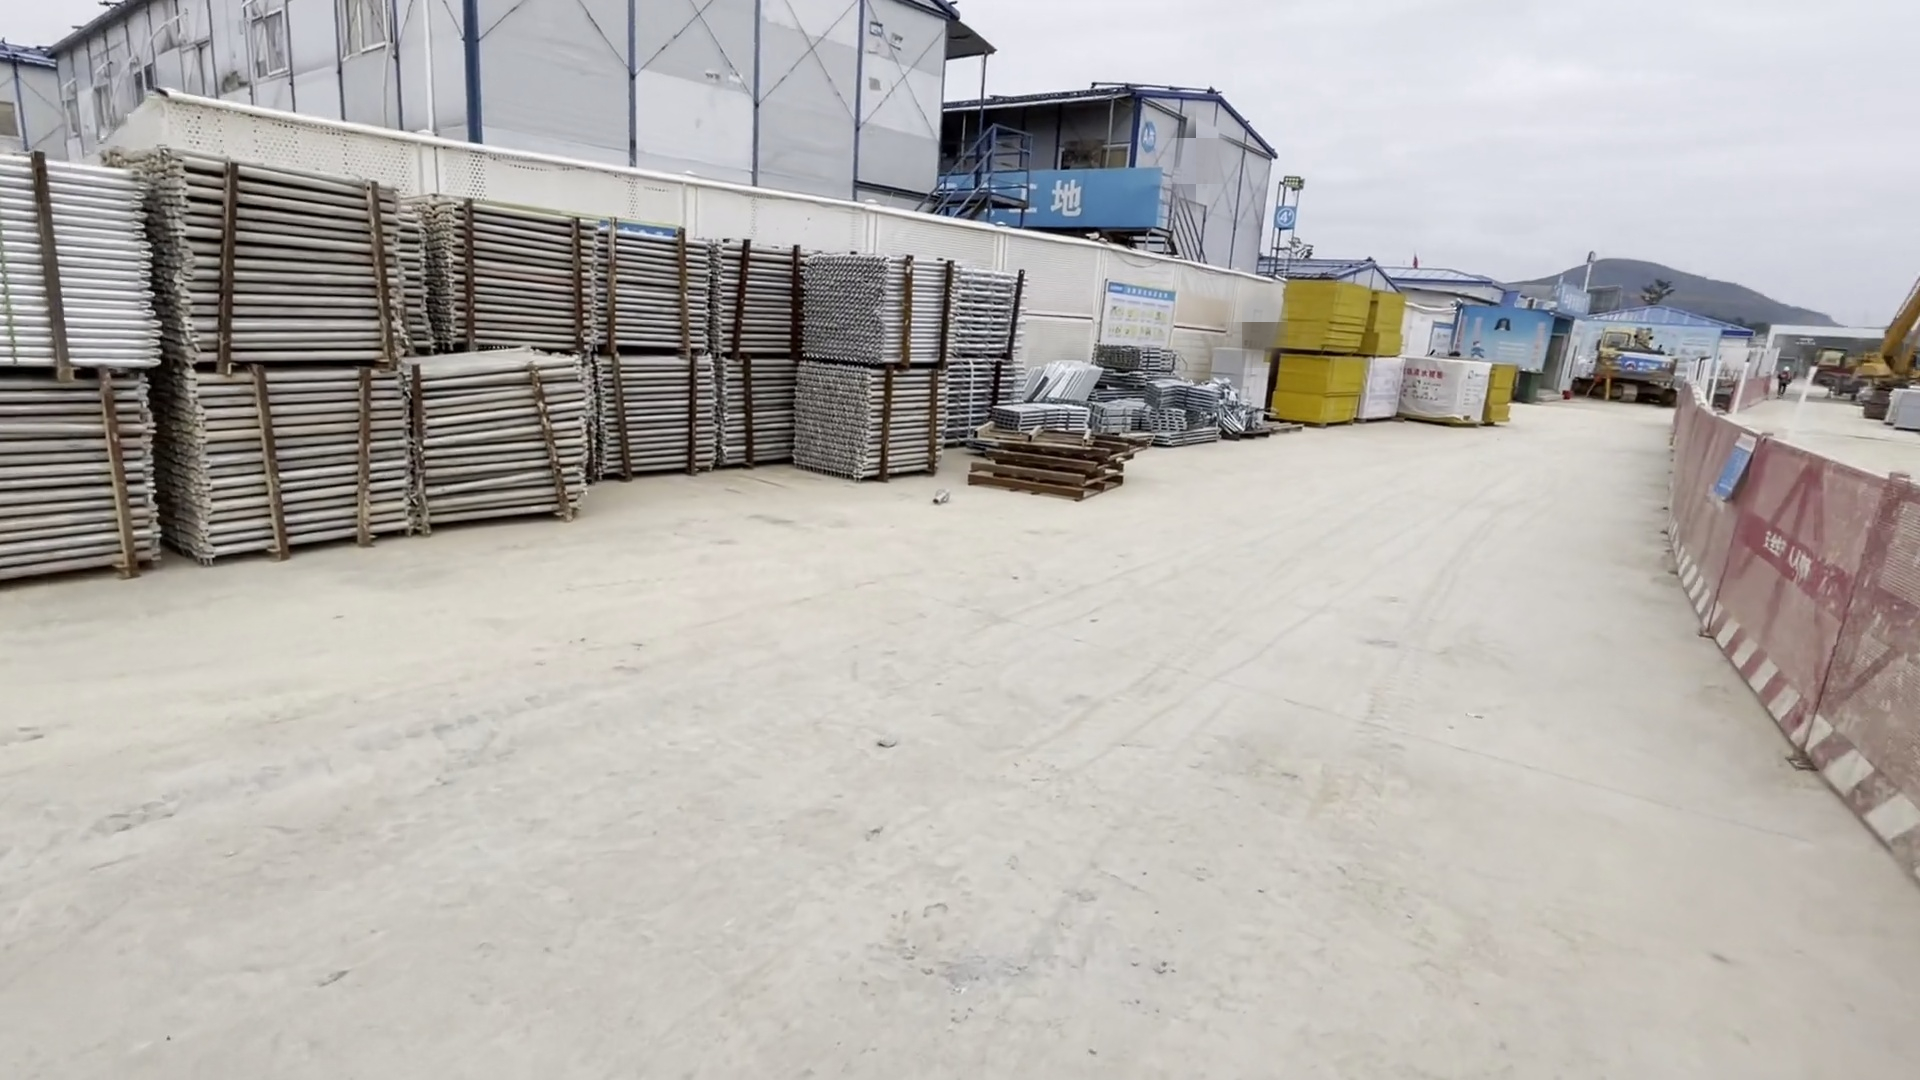board: (1275, 276, 1371, 425)
fence: (1660, 407, 1920, 982)
scaffold: (12, 138, 1033, 633)
